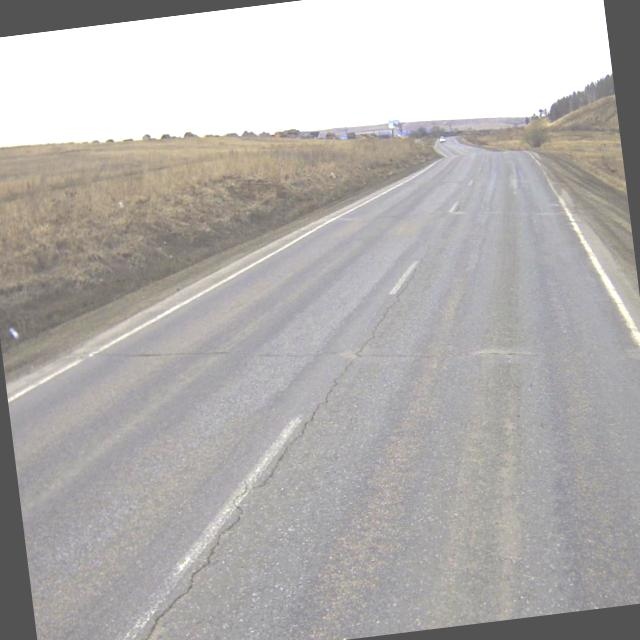road: (6, 136, 640, 640)
